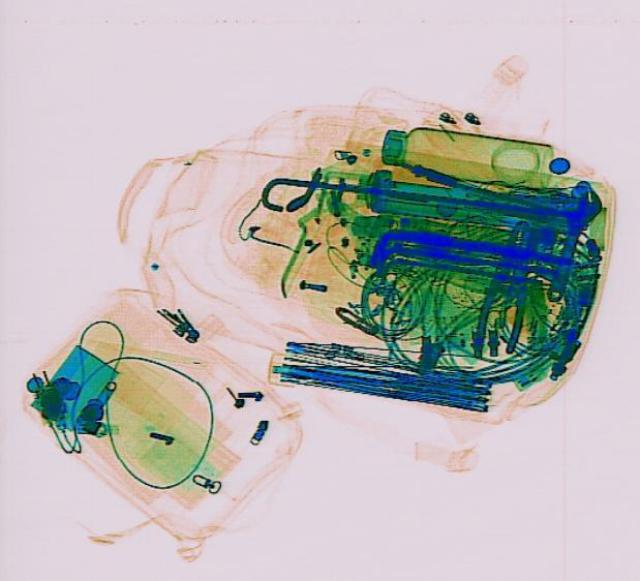Pliers: (467, 214, 543, 361)
Wrench: (536, 184, 604, 303)
